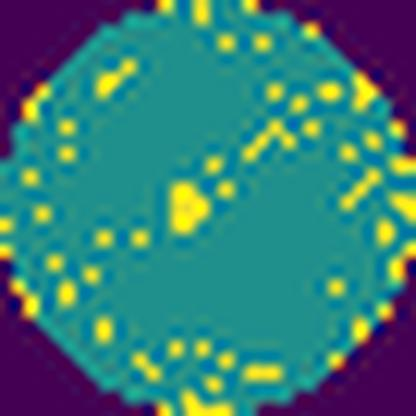Center: (162, 174, 218, 243)
